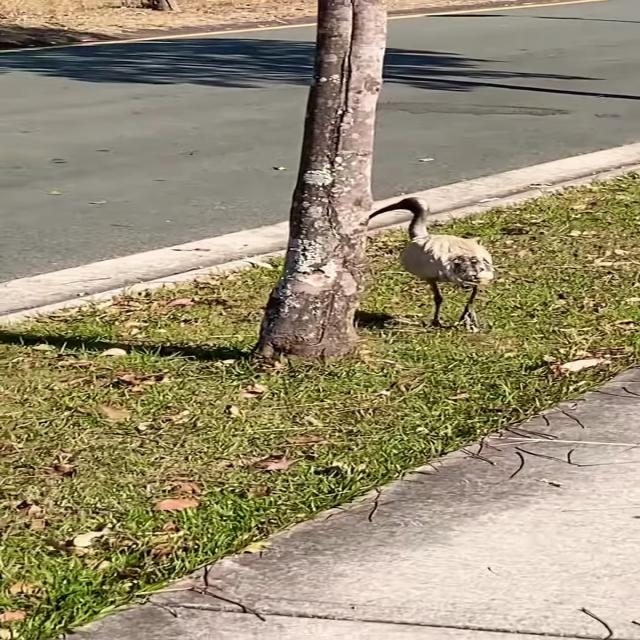Birds-Ibis: (360, 190, 502, 334)
